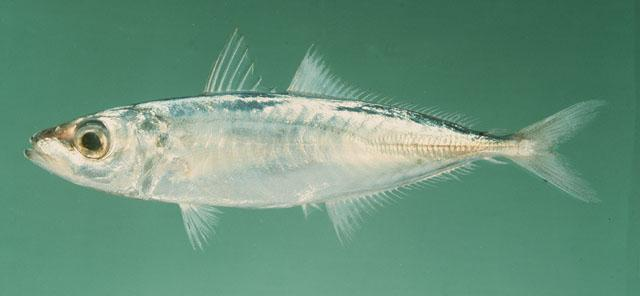Mulut: (15, 120, 55, 186)
Sirip Anal: (318, 161, 484, 246)
Sirip Ekor: (512, 82, 614, 214)
Sirip Perut: (170, 192, 228, 258)
Sirip Punggung: (202, 22, 392, 116)
